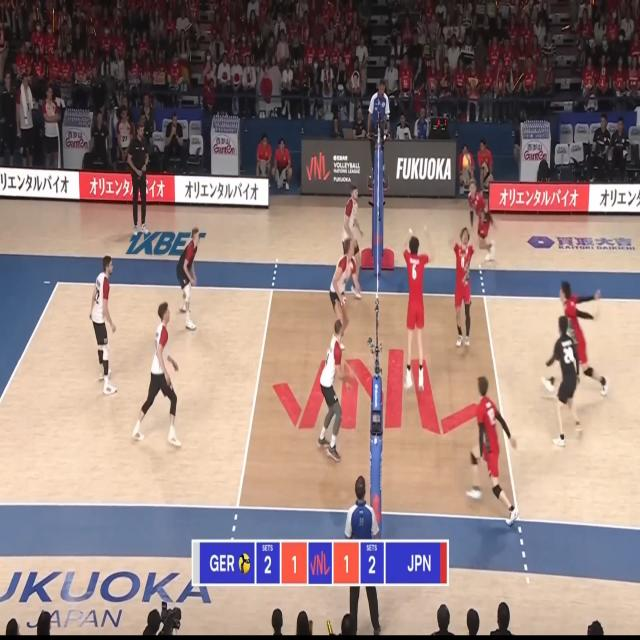ball: (462, 154, 471, 168)
